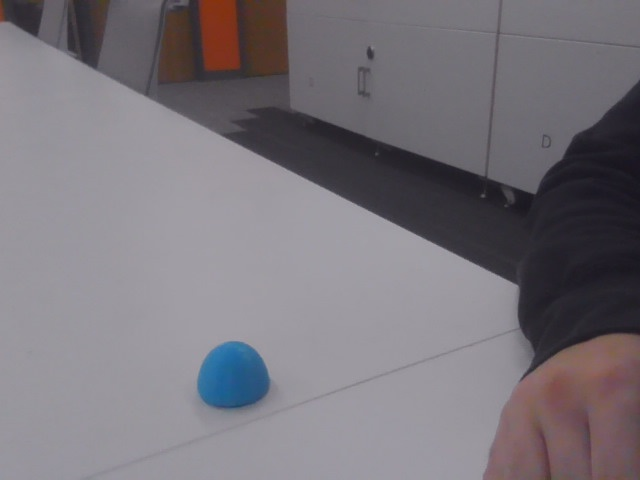halfsphere: (198, 341, 270, 408)
